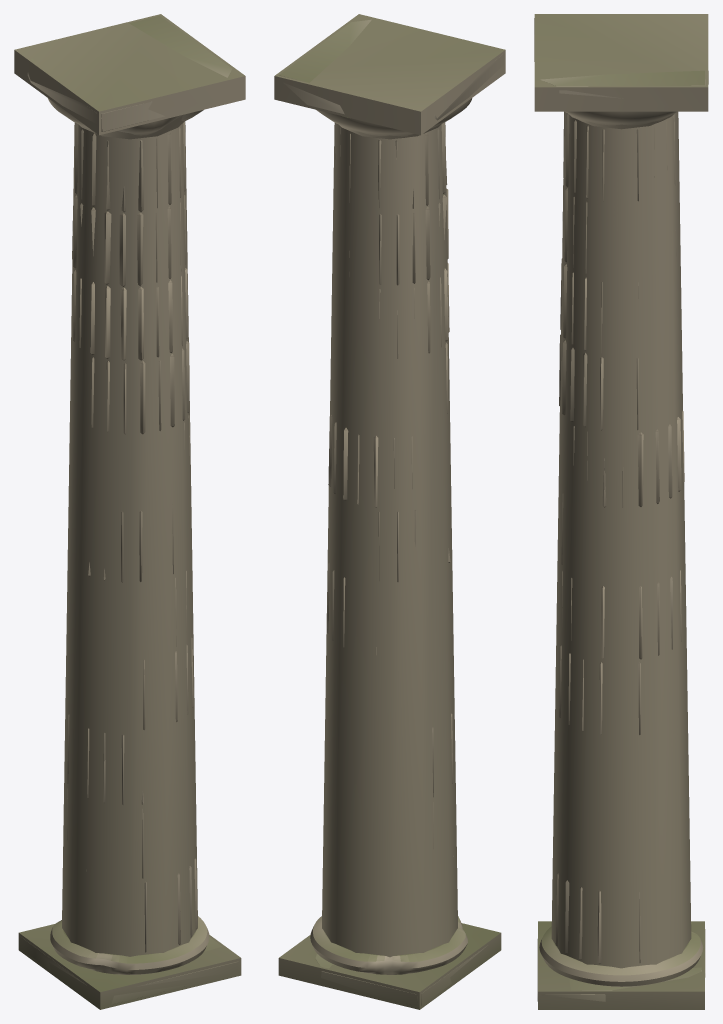
File: column.glb
The picture shows the model from 3 angles, left to right: view 1: azimuth 30°, elevation 25°; view 2: azimuth 150°, elevation 25°; view 3: azimuth 270°, elevation 25°; orthographic projection. The views are drawn at different scales.
Visible parts, largest first — view 1: column_far, column; view 2: column_far, column; view 3: column_far, column.
Part boxes in pixels (left/top/right/bottom): column_far: left=14, top=14, right=245, bottom=1009; column: left=20, top=15, right=238, bottom=1004; column_far: left=274, top=14, right=505, bottom=1009; column: left=279, top=19, right=503, bottom=1006; column_far: left=534, top=14, right=708, bottom=1009; column: left=534, top=15, right=708, bottom=1001.
Size of the model in its own units: 5.21 by 30.51 by 5.22.
